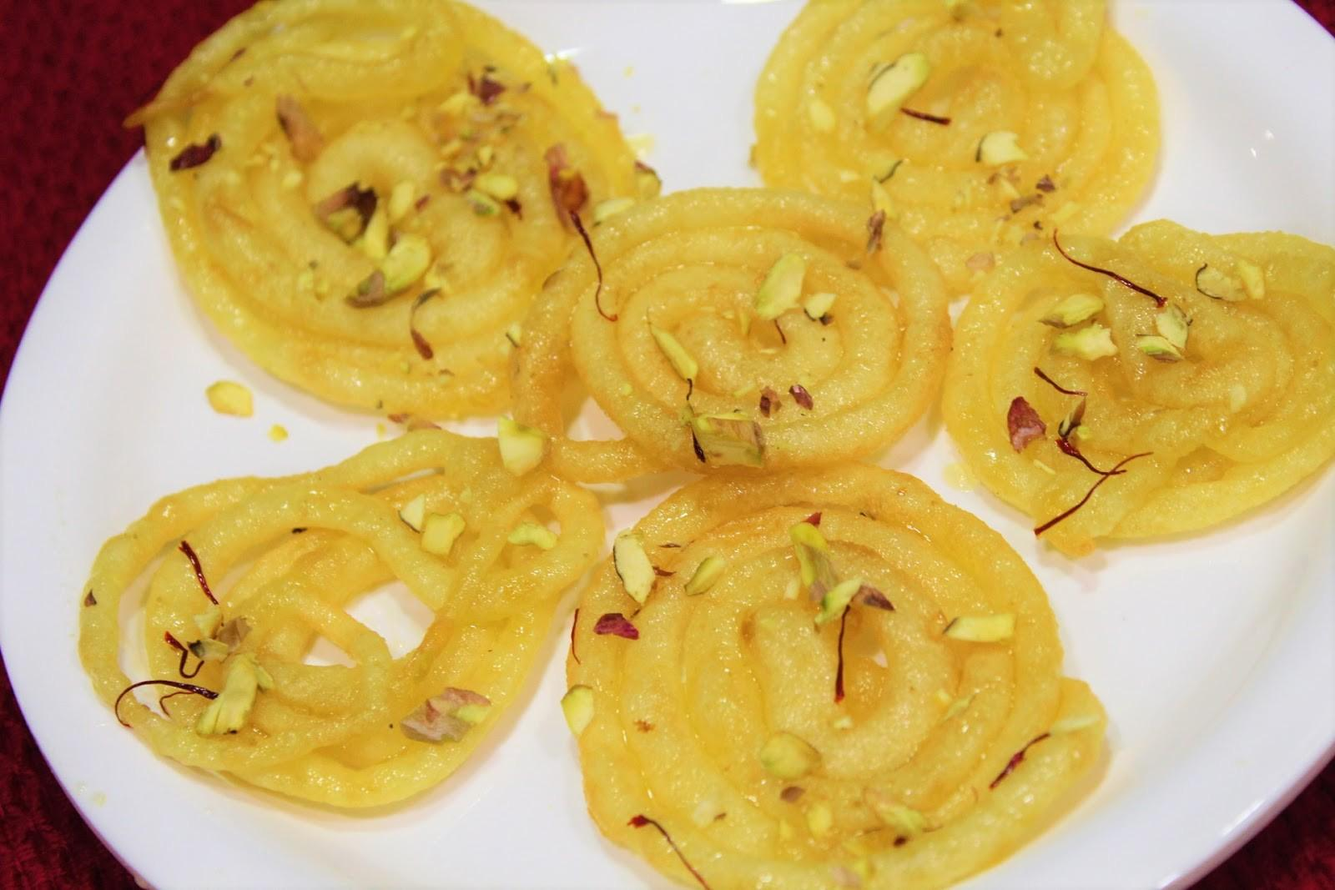Jalebi: (72, 0, 1335, 890)
